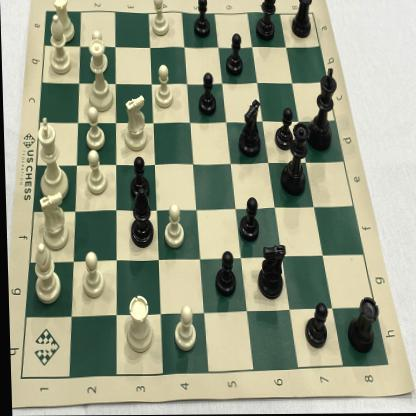black-bishop: (125, 186, 155, 250), (254, 0, 278, 44)
black-king: (306, 66, 340, 152)
black-knight: (254, 241, 285, 302), (235, 97, 262, 161)
black-pawn: (298, 301, 327, 351), (234, 194, 261, 246), (213, 248, 236, 299), (196, 69, 218, 119), (127, 155, 148, 202), (273, 106, 293, 154), (224, 32, 244, 80), (191, 0, 214, 41)
black-queen: (277, 124, 310, 204)
black-rook: (342, 295, 378, 355), (289, 0, 317, 41)
white-bishop: (30, 243, 62, 305), (46, 14, 73, 76)
white-king: (34, 116, 68, 202)
white-knight: (36, 191, 70, 251), (122, 95, 149, 153)
white-pawn: (168, 304, 195, 357), (79, 250, 105, 301), (82, 147, 108, 197), (162, 201, 185, 251), (152, 62, 175, 110), (84, 105, 106, 154), (87, 29, 110, 73), (149, 0, 170, 39)
white-queen: (84, 39, 116, 114)
white-rook: (122, 292, 152, 356), (51, 0, 76, 45)
